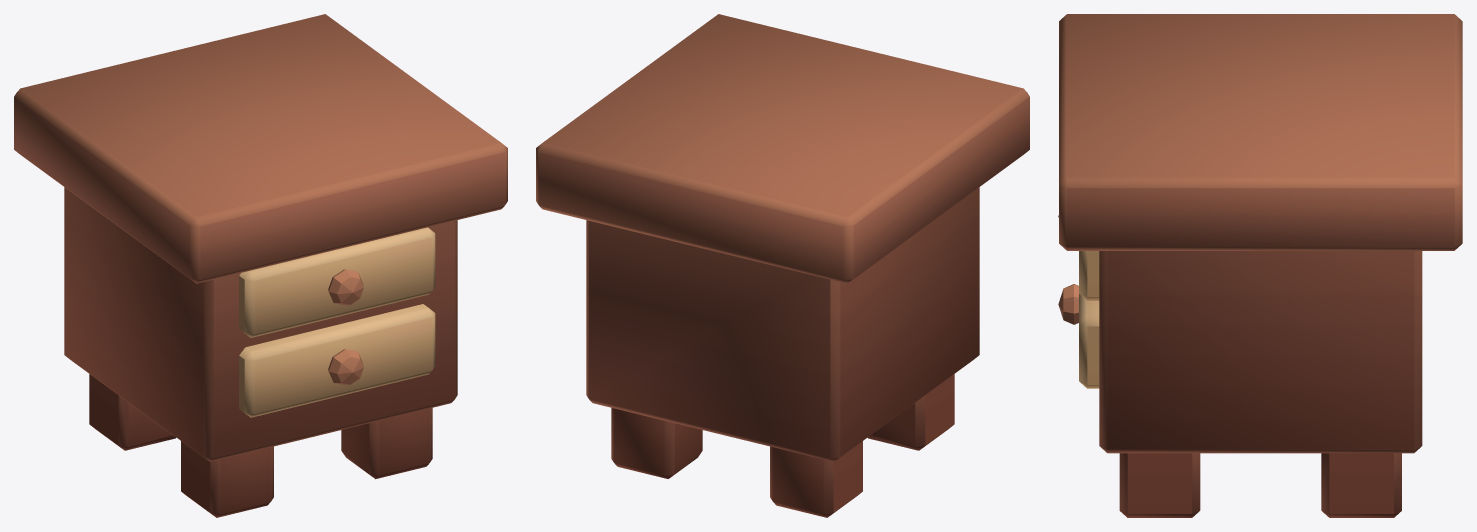
The model's file is cabinet_small.glb.
3 views of the same model, side by side, from view 1: azimuth 30°, elevation 25°; view 2: azimuth 150°, elevation 25°; view 3: azimuth 270°, elevation 25° (orthographic). The views are drawn at different scales.
Visible parts, largest first — view 1: cabinet_small; view 2: cabinet_small; view 3: cabinet_small.
Part boxes in pixels (x1=…): cabinet_small: x1=14, y1=14, x2=507, y2=517; cabinet_small: x1=536, y1=14, x2=1029, y2=517; cabinet_small: x1=1058, y1=14, x2=1462, y2=517.
Bounding box in the file's own units: 1 × 1 × 1.
1 material, 1 textured.
